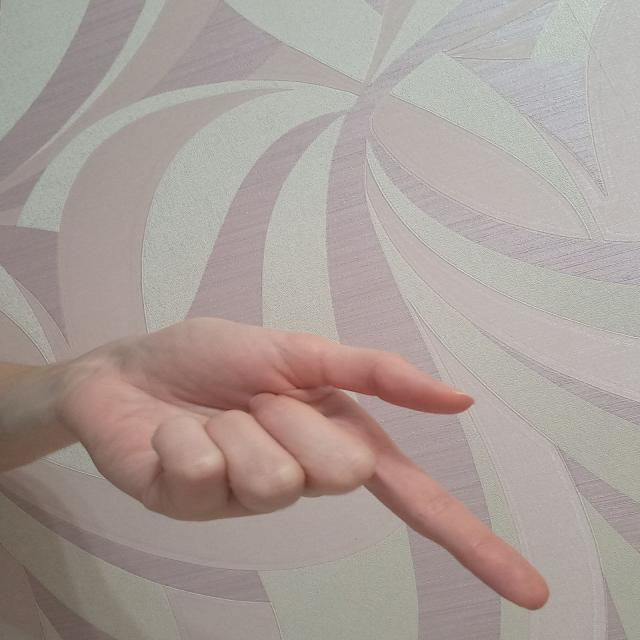g: (64, 298, 556, 614)
